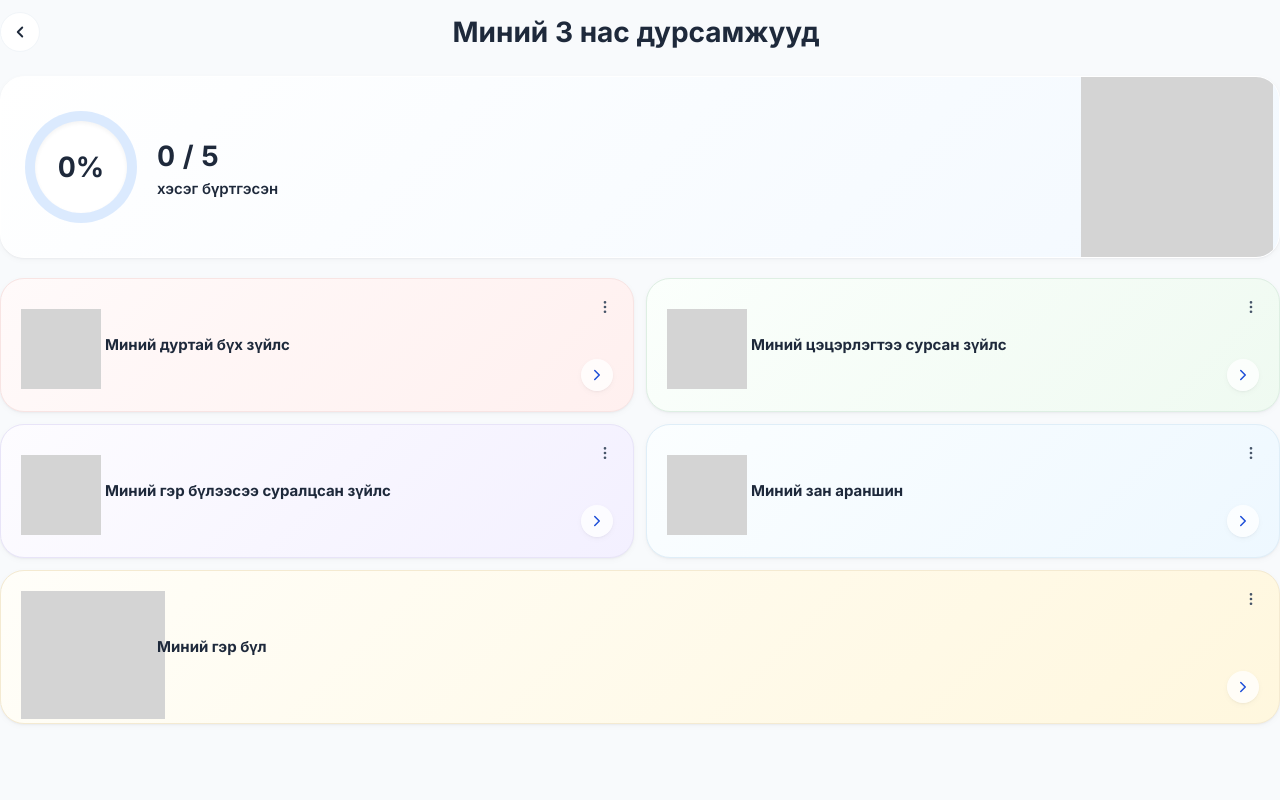
Test: growth age navigation and editing › saves all ten optional favourite fields only to the selected age
Click the button named "Миний дуртай бүх зүйлс үйлдэл".
click(605, 307)  # box [585,287,625,327]
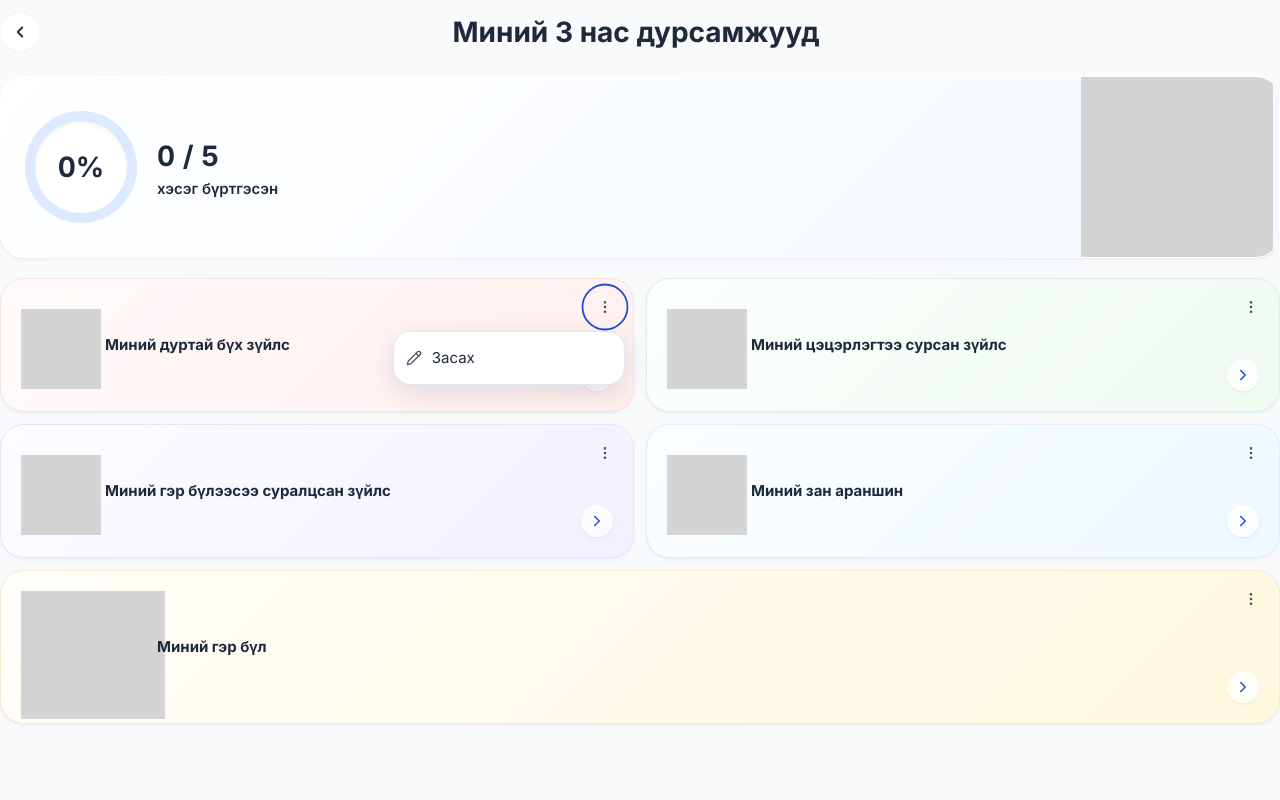
Click the menu item "Засах".
click(509, 358)  # box [394,336,624,380]
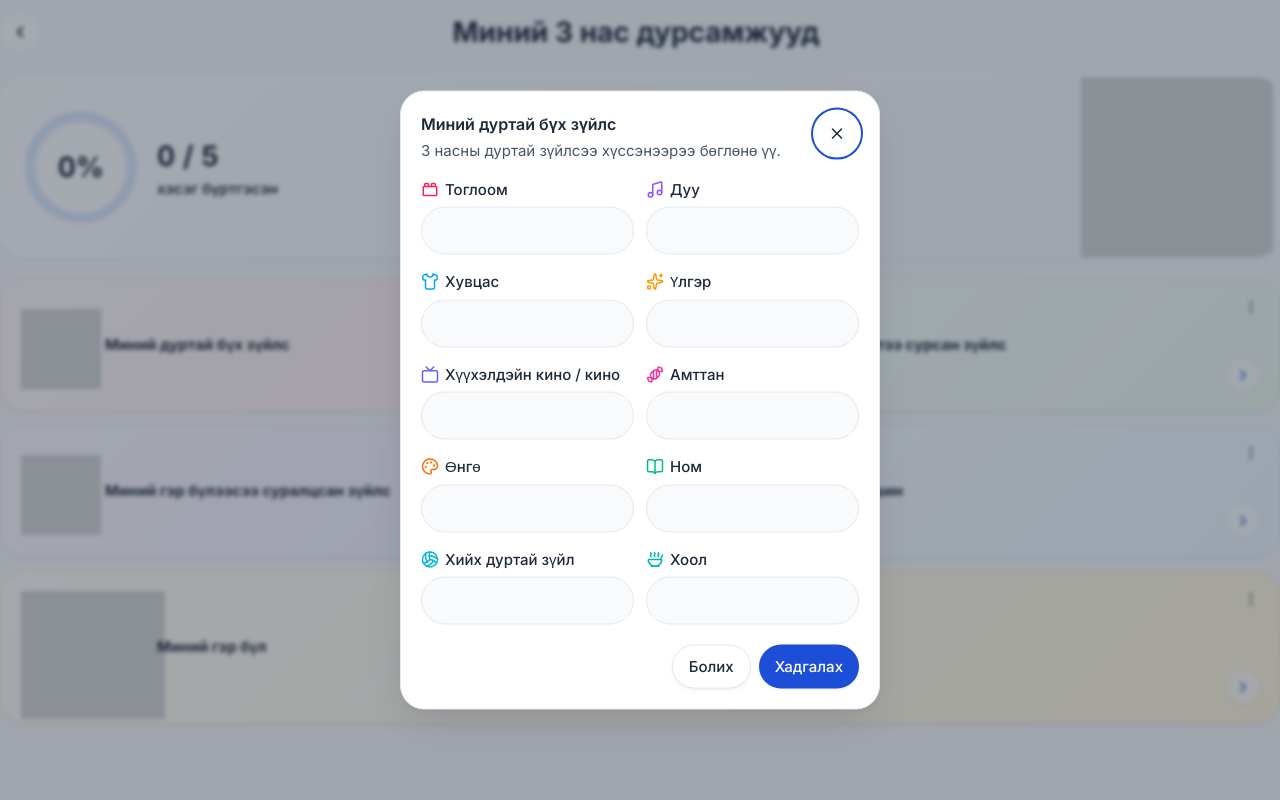
Type "Машин" into the field labelled "Тоглоом".
click(528, 230); type("Машин")  # box [421,206,634,254]
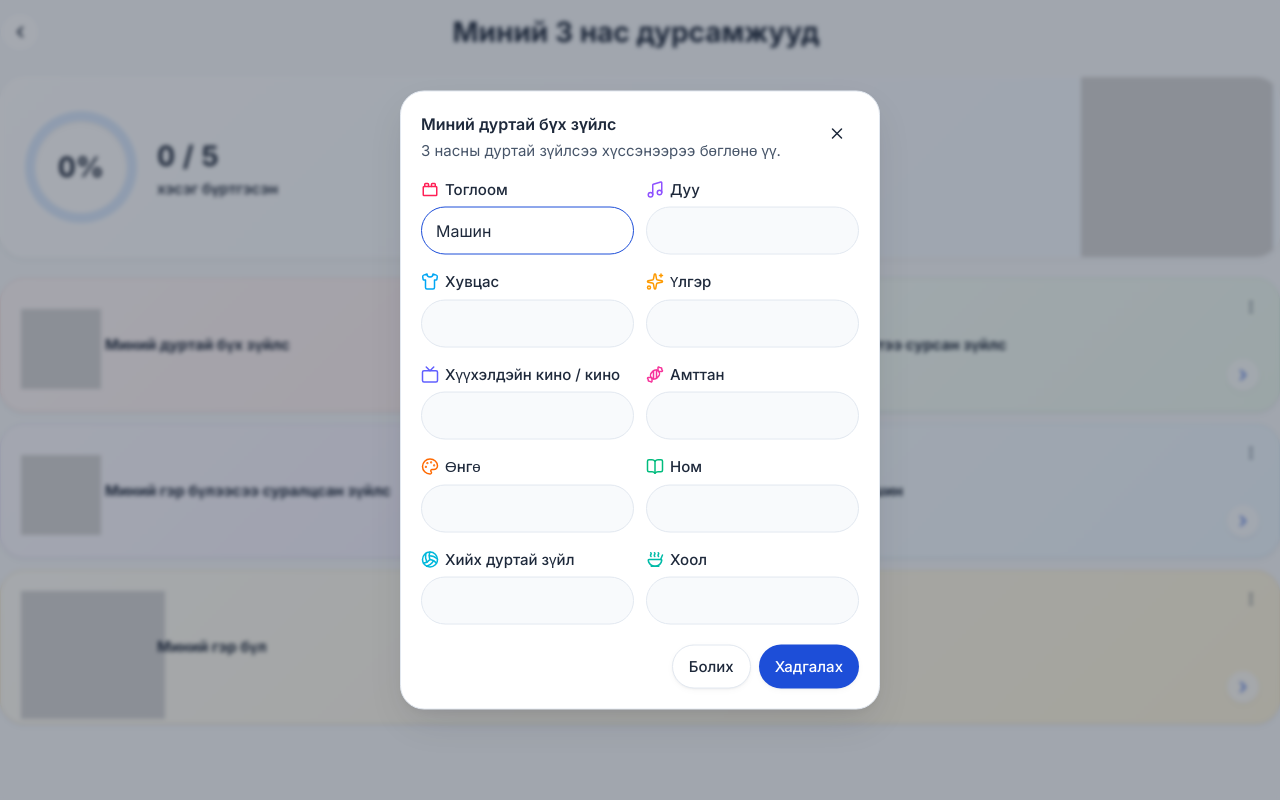
Type "Ааруул" into the field labelled "Амттан".
click(752, 416); type("Ааруул")  # box [646,392,859,440]
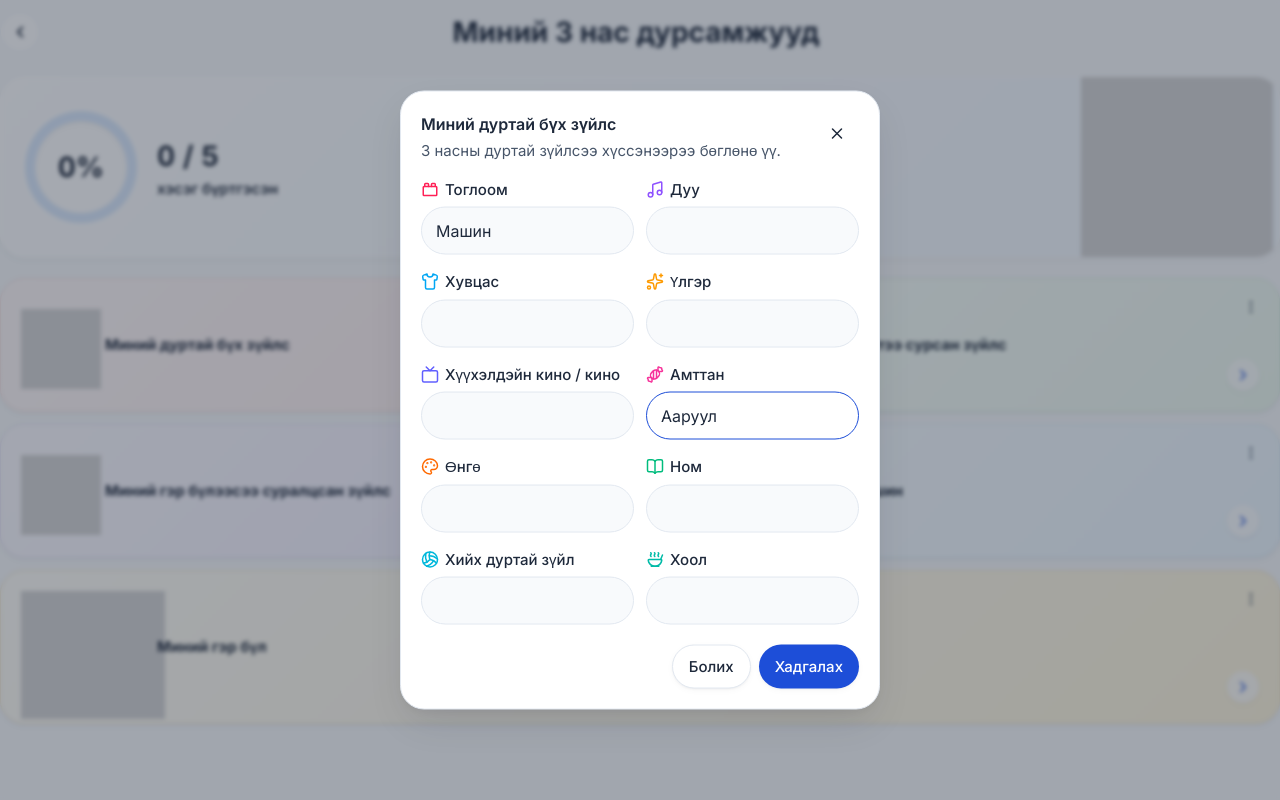
Click the button "Хадгалах".
click(809, 666)  # box [759,644,859,688]
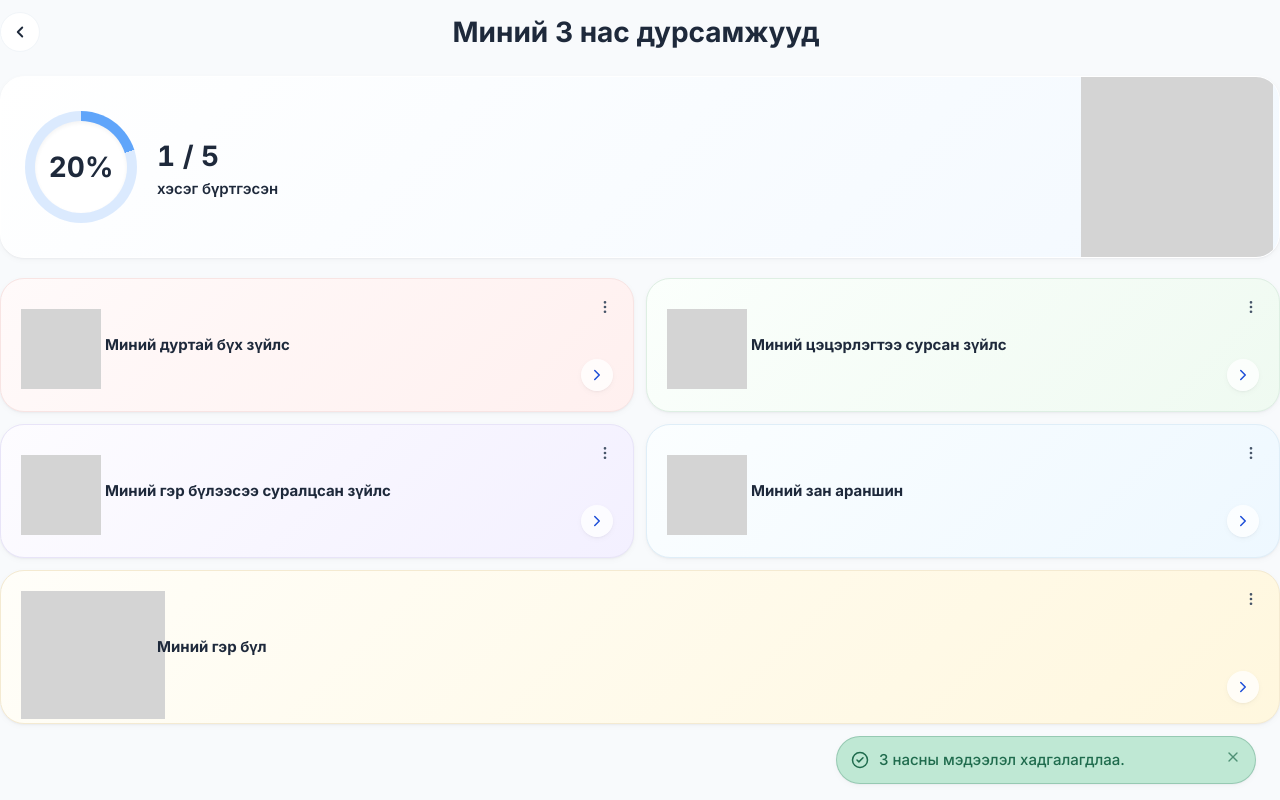
Now the text "3 насны мэдээлэл хадгалагдлаа." is shown, box [879,750,1125,768]
